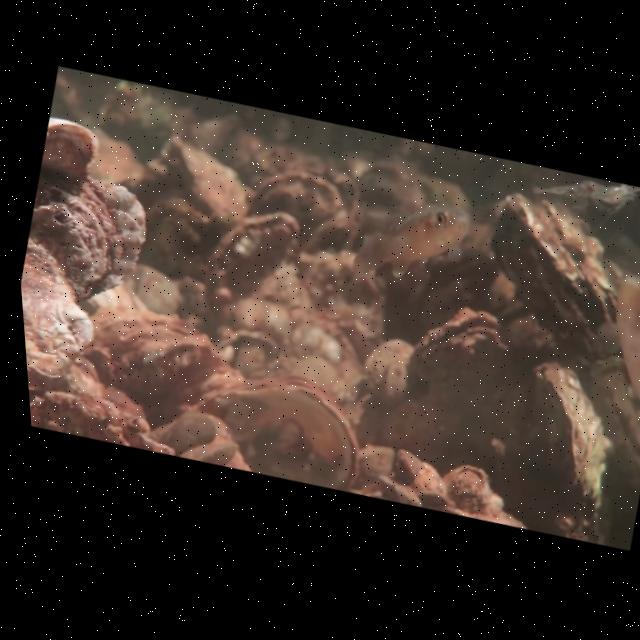Oyster-Closed: (488, 194, 640, 477), (181, 375, 364, 490), (528, 359, 609, 535), (103, 332, 227, 392), (394, 449, 446, 504)
Oyster-Indeterminate: (28, 174, 148, 304), (21, 240, 94, 380), (38, 117, 100, 183), (159, 410, 219, 455)
Oyster-Open: (374, 302, 515, 462), (208, 208, 299, 306), (442, 464, 492, 512)
